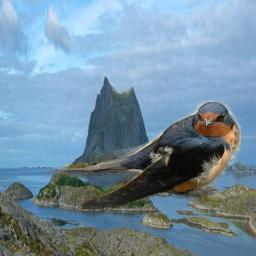Swallow: (45, 100, 241, 209)
